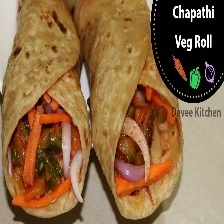roti: (0, 0, 187, 221)
